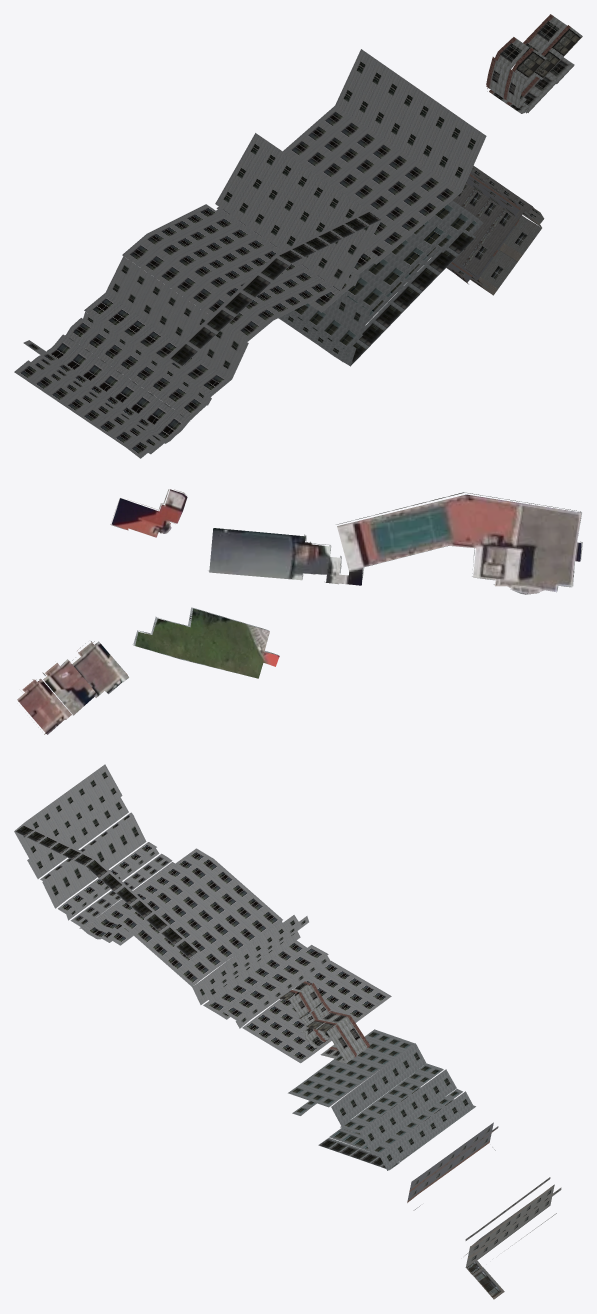
File: tile_LOD4_r14_c0.glb
3 renders of one model, top to bottom at view 1: azimuth 30°, elevation 25°; view 2: azimuth 150°, elevation 25°; view 3: azimuth 270°, elevation 25°, orthographic. The views are drawn at different scales.
Bounding box in the file's own units: 152 × 77 × 131.
30 materials, 30 textured.
